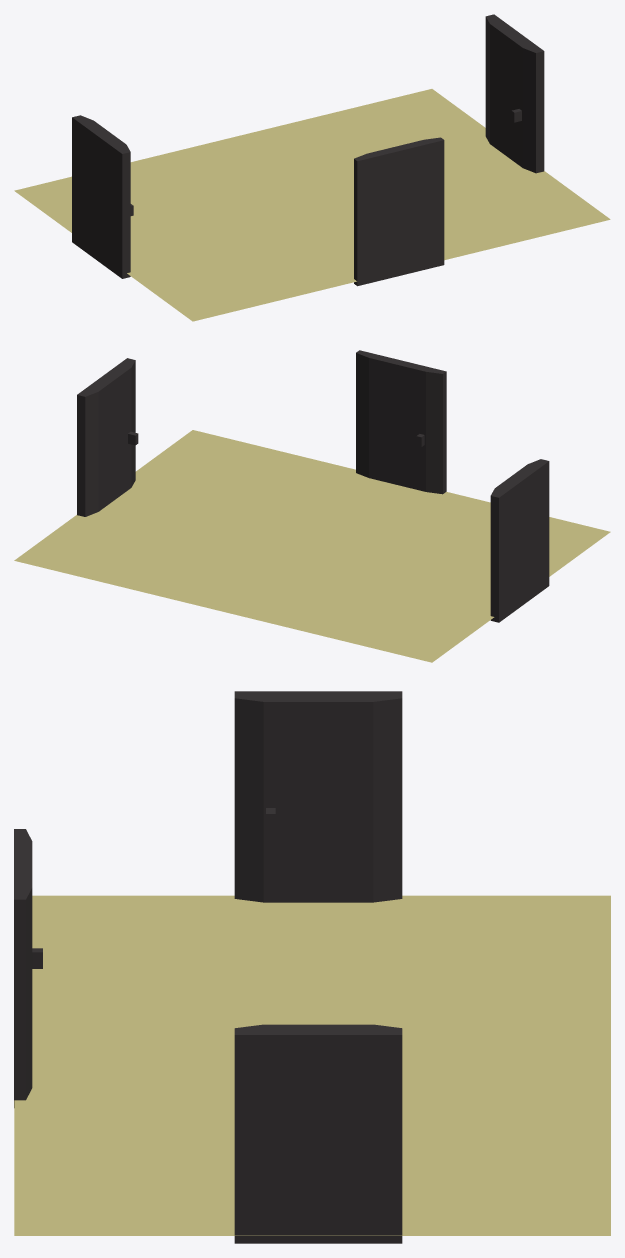
Rendered from ByakkoStage4.4.fbx.
3 views of the same model, one above another, from view 1: azimuth 30°, elevation 25°; view 2: azimuth 150°, elevation 25°; view 3: azimuth 270°, elevation 25° (orthographic). The views are drawn at different scales.
Parts seen in each view (by area): view 1: Plane.023, Plane.024; view 2: Plane.023, Plane.024; view 3: Plane.023, Plane.024.
Boxes of the visible parts, x1=… form: Plane.023: x1=14, y1=89, x2=610, y2=321; Plane.024: x1=72, y1=14, x2=544, y2=286; Plane.023: x1=14, y1=430, x2=610, y2=662; Plane.024: x1=77, y1=350, x2=549, y2=622; Plane.023: x1=14, y1=895, x2=610, y2=1235; Plane.024: x1=14, y1=691, x2=402, y2=1243.
Size of the model in its own units: 34.66 by 9.8 by 25.42.
